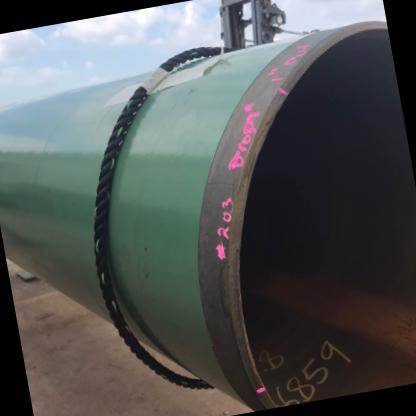Bevel: (250, 109, 280, 156), (247, 360, 260, 378)
